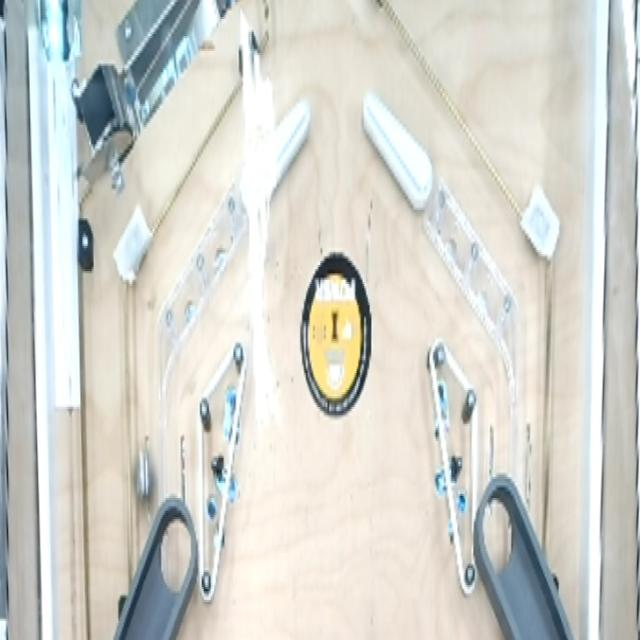ball: (130, 441, 159, 516)
flipper-left: (362, 86, 438, 235)
flipper-right: (241, 91, 316, 236)
